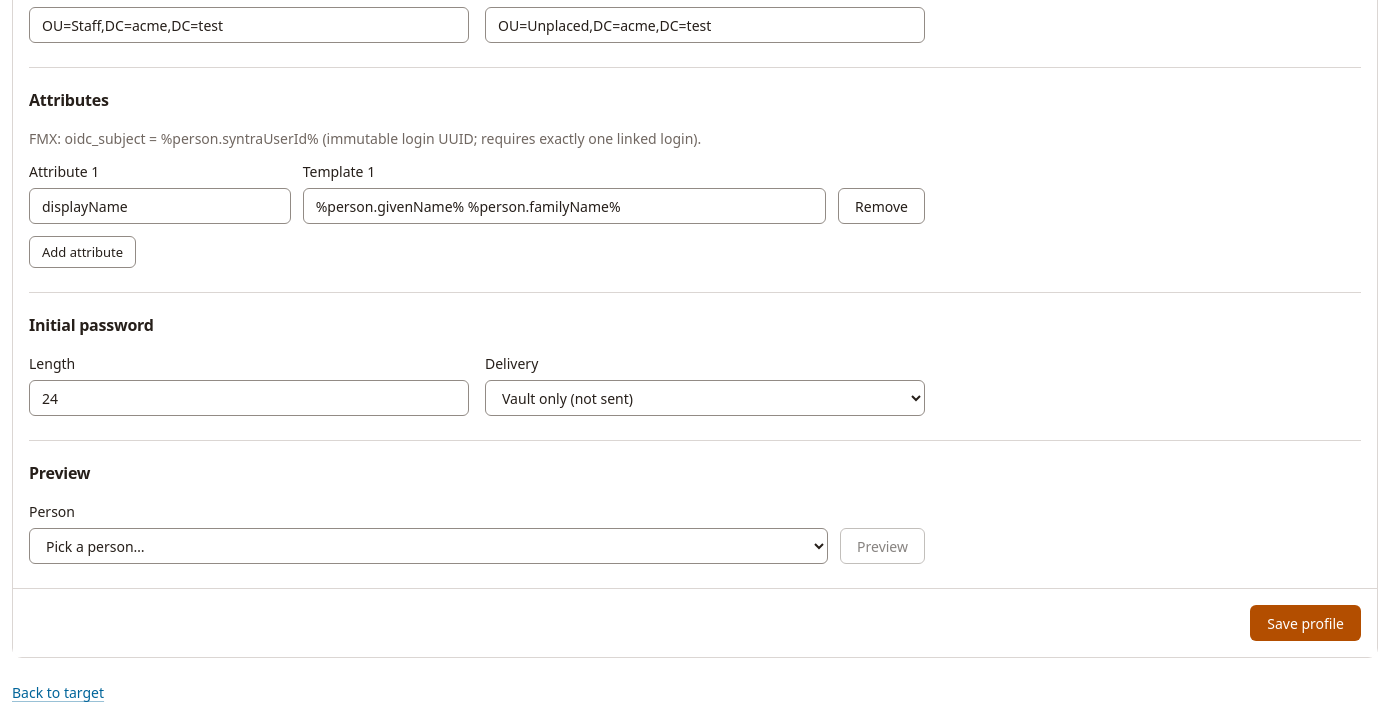
Test: AccountProfilePage › shows the Entra user principal name and no container for a flat target
(page scrolled)
Select "Anna Novak" in the dropdown labelled "Person" at point(429, 546), box [29,528,828,564]
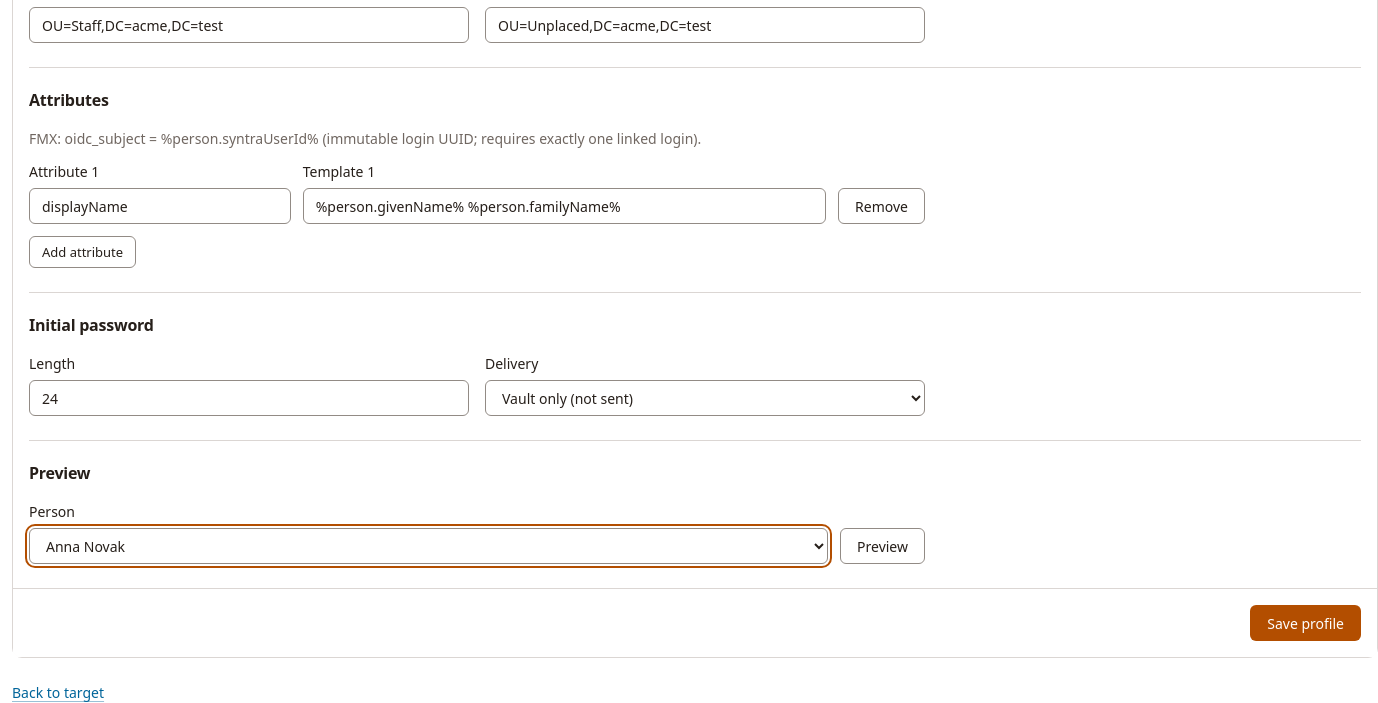
Click the button "Preview" at point(883, 546), box [840,528,925,564]
(page scrolled)
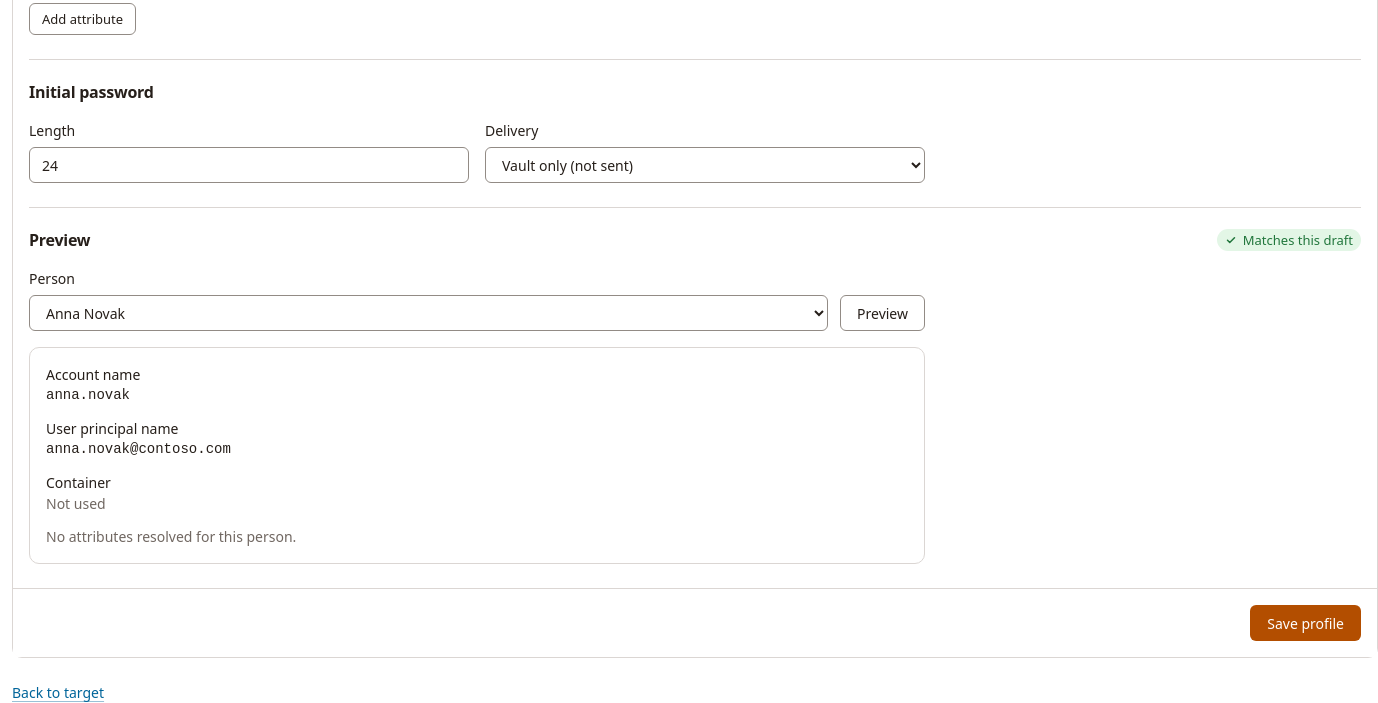
Expected: the text "anna.novak@contoso.com" is shown, [46,441,231,457]
Expected: the text "Not used" is shown, [46,494,106,513]
